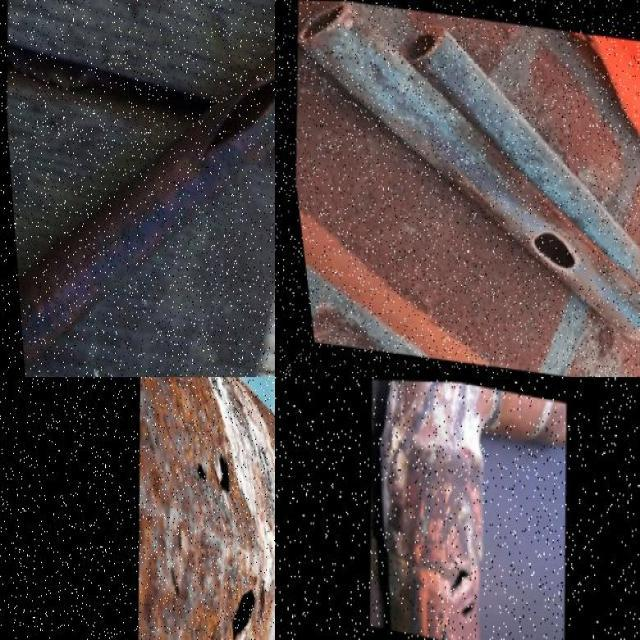hole: (516, 222, 581, 273), (218, 572, 262, 640), (210, 444, 246, 501), (444, 557, 475, 598), (187, 444, 211, 487), (430, 605, 455, 640), (454, 592, 477, 619)
rupture: (183, 55, 274, 162)
